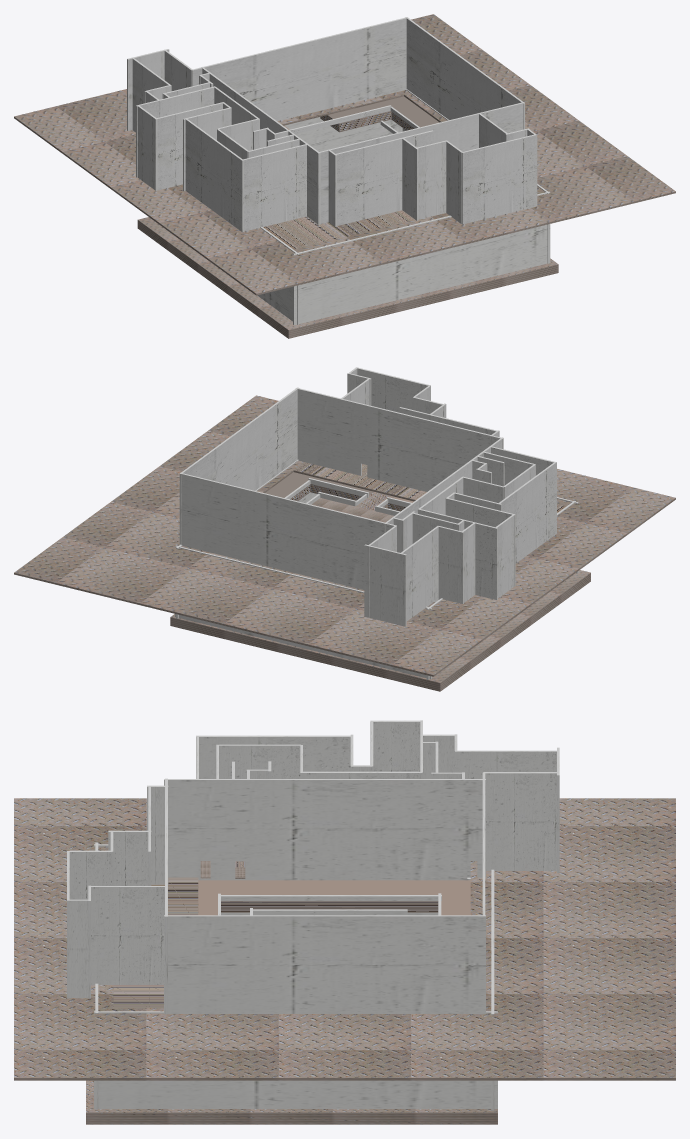
File: Map_Engineering.glb
3 renders of one model, top to bottom at view 1: azimuth 30°, elevation 25°; view 2: azimuth 150°, elevation 25°; view 3: azimuth 270°, elevation 25°, orthographic. The views are drawn at different scales.
Visible parts, largest first — view 1: Floor-col, Wall.001-col, Wall.050-col, FloorHole.001-col, Wall.002-col, Wall.028-col, Wall.024-col, Wall.004-col, Wall.006-col, Wall-col, Wall.012-col, Wall.031-col (+17 smaller); view 2: Floor-col, Wall.001-col, Wall-col, Wall.002-col, FloorHole.001-col, Wall.006-col, Wall.023-col, Wall.022-col, MoreFlloor-col, Wall.014-col, Wall.018-col, Wall.028-col (+12 smaller); view 3: Floor-col, Wall.003-col, Wall.002-col, Wall.049-col, MoreFlloor-col, Wall.027-col, Wall.021-col, FloorHole.001-col, Wall.006-col, Wall.007-col, Wall.013-col, Wall.022-col (+10 smaller).
Part boxes in pixels (left/top/right/bottom): Floor-col: left=14, top=14, right=675, bottom=295; Wall.001-col: left=192, top=17, right=406, bottom=121; Wall.050-col: left=293, top=191, right=550, bottom=325; FloorHole.001-col: left=137, top=217, right=558, bottom=338; Wall.002-col: left=406, top=17, right=524, bottom=129; Wall.028-col: left=461, top=134, right=537, bottom=224; Wall.024-col: left=334, top=130, right=433, bottom=225; Wall.004-col: left=242, top=144, right=306, bottom=231; Wall.006-col: left=185, top=118, right=243, bottom=232; Wall-col: left=317, top=102, right=524, bottom=224; Wall.012-col: left=154, top=102, right=223, bottom=190; Wall.031-col: left=416, top=140, right=446, bottom=219; Floor-col: left=14, top=395, right=675, bottom=676; Wall.001-col: left=181, top=473, right=396, bottom=589; Wall-col: left=296, top=388, right=503, bottom=491; Wall.002-col: left=179, top=387, right=298, bottom=544; FloorHole.001-col: left=170, top=570, right=590, bottom=691; Wall.006-col: left=498, top=462, right=556, bottom=563; Wall.023-col: left=364, top=544, right=406, bottom=626; Wall.022-col: left=400, top=526, right=439, bottom=621; MoreFlloor-col: left=265, top=472, right=413, bottom=522; Wall.014-col: left=418, top=509, right=497, bottom=599; Wall.018-col: left=438, top=526, right=463, bottom=603; Wall.028-col: left=356, top=367, right=430, bottom=412; Floor-col: left=14, top=798, right=675, bottom=1080; Wall.003-col: left=164, top=779, right=485, bottom=880; Wall.002-col: left=164, top=915, right=485, bottom=1013; Wall.049-col: left=94, top=1011, right=497, bottom=1108; MoreFlloor-col: left=198, top=880, right=470, bottom=915; Wall.027-col: left=88, top=886, right=166, bottom=984; Wall.021-col: left=483, top=772, right=559, bottom=870; FloorHole.001-col: left=86, top=1080, right=497, bottom=1124; Wall.006-col: left=196, top=735, right=352, bottom=778; Wall.007-col: left=218, top=744, right=300, bottom=778; Wall.013-col: left=370, top=720, right=421, bottom=771; Wall.022-col: left=455, top=750, right=559, bottom=778.
Bounding box in the file's own units: 100 × 34.36 × 100.
2 materials, 2 textured.
